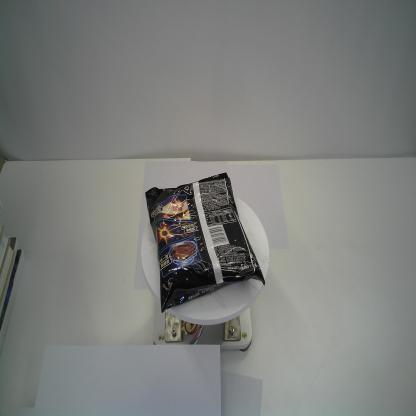Instant Noodles: (144, 170, 266, 314)
